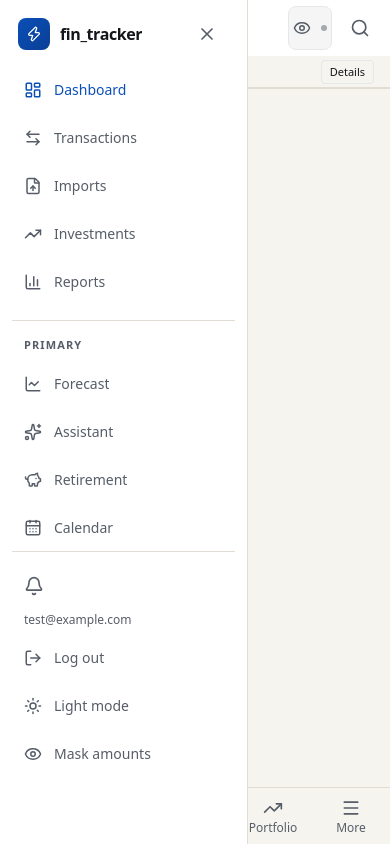
M72 mobile navigation drawer › opens from the toggle and closes again from the close button
The width and height of the screenshot is (390, 844).
Click the button with test id "nav-drawer-toggle" at coordinates (30, 28), box [8,6,52,50]
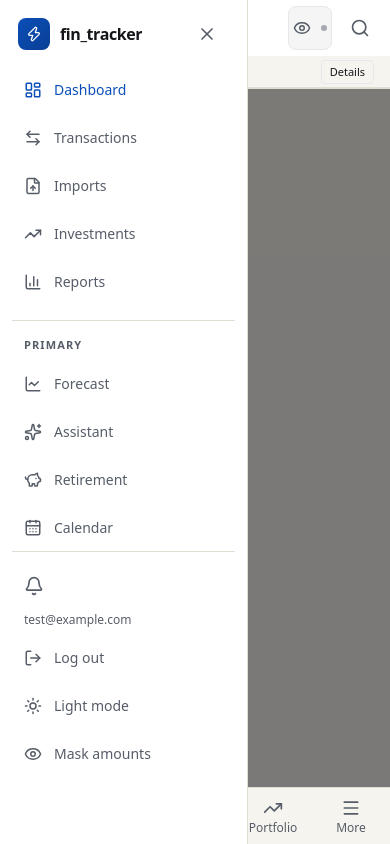
Check: the element with test id "nav-scrim" is shown
Click the button with test id "nav-drawer-close" at coordinates (207, 34), box [185,12,229,56]
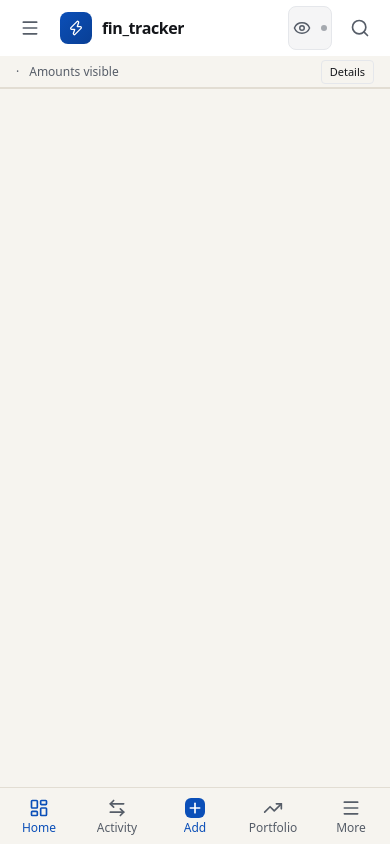
Check: the button with test id "nav-drawer-toggle" is collapsed, box [8,6,52,50]
Check: the element with test id "nav-scrim" is gone
